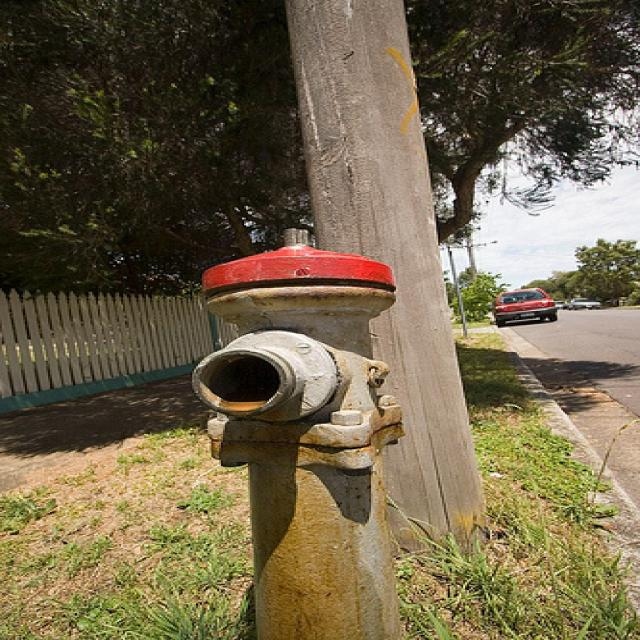Vehicle: (493, 288, 562, 327), (571, 298, 601, 309)
